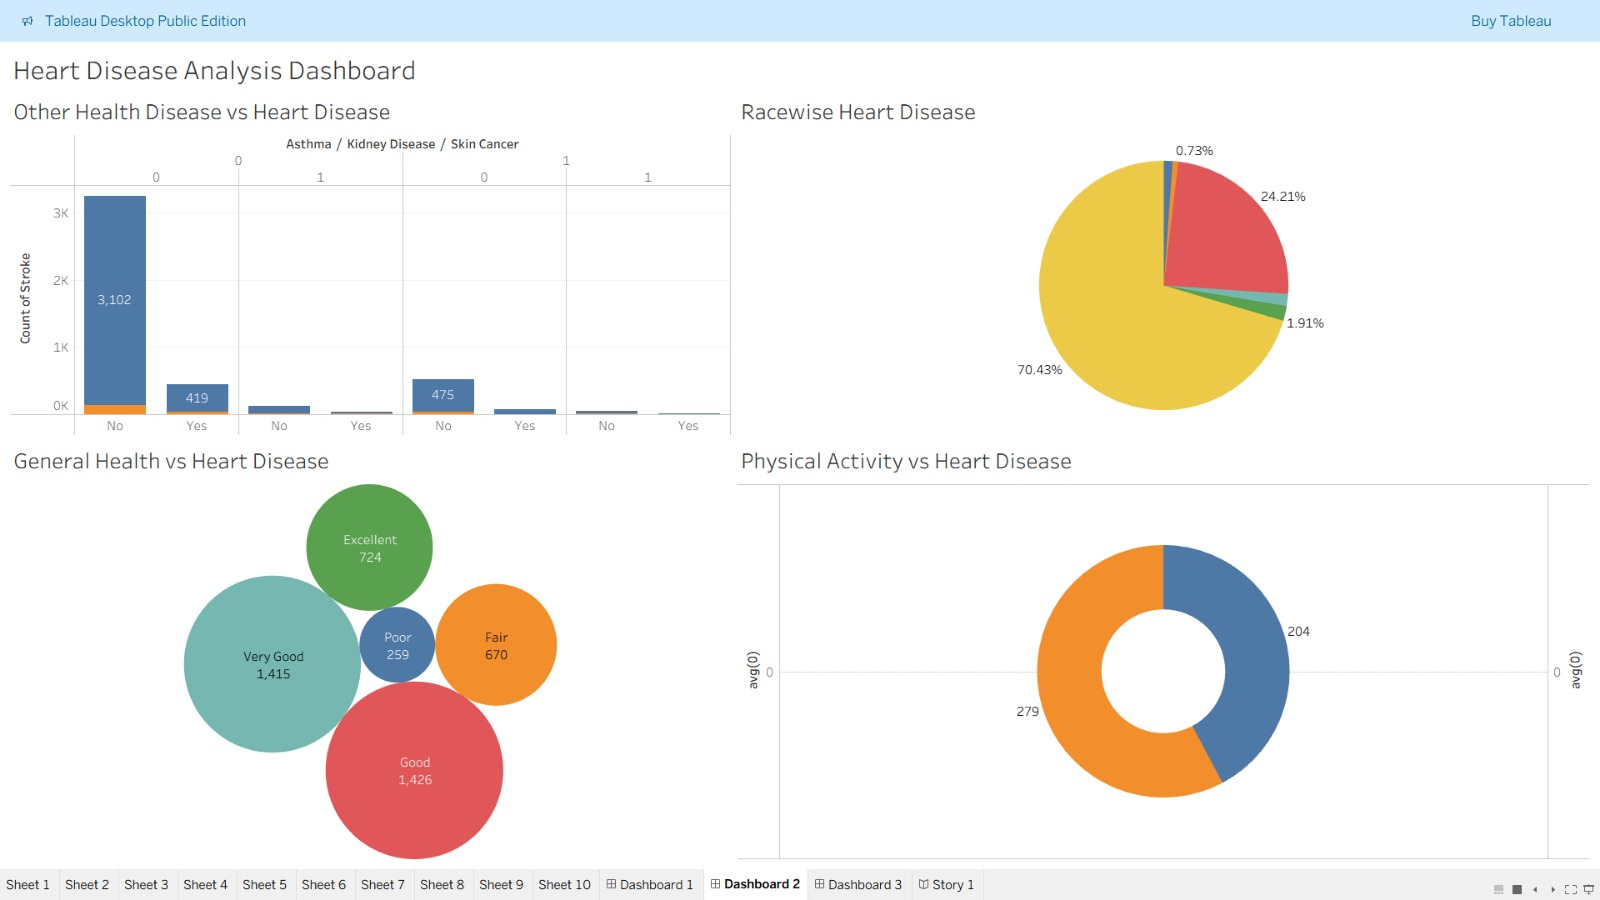

The page's visual inventory and layout, read from the dashboard file:
{"tool":"tableau","page":{"name":"Dashboard 2","canvas":[1000,1000],"units":"permille","ordinal":1},"visuals":[{"type":"title","box":[4.8,10,990.3,50]},{"type":"worksheet","title":"Sheet 5","mark":"Bar","rows":["Stroke"],"cols":["Asthma","KidneyDisease","SkinCancer"],"box":[4.8,60,453.8,420.7]},{"type":"worksheet","title":"Sheet 6","mark":"Pie","box":[458.7,60,536.5,420.7]},{"type":"worksheet","title":"Sheet 7","mark":"Circle","box":[4.8,480.7,453.8,509.4]},{"type":"worksheet","title":"Sheet 8","mark":"Pie","rows":["Calculation_0967066556555270","Calculation_0967066556612616"],"box":[458.7,480.7,536.5,509.4]}]}

Visuals, with their boxes on the dashboard's canvas, which has no fixed pixel size, in thousandths of its width and height (x1, y1, x2, y2). These are canvas units, not pixel positions in the 1600x900 screenshot, which may show the page scaled, cropped or inside an application window:
title: detection(5, 10, 995, 60)
"Sheet 5" worksheet (Bar marks): detection(5, 60, 459, 481)
"Sheet 6" worksheet (Pie marks): detection(459, 60, 995, 481)
"Sheet 7" worksheet (Circle marks): detection(5, 481, 459, 990)
"Sheet 8" worksheet (Pie marks): detection(459, 481, 995, 990)
